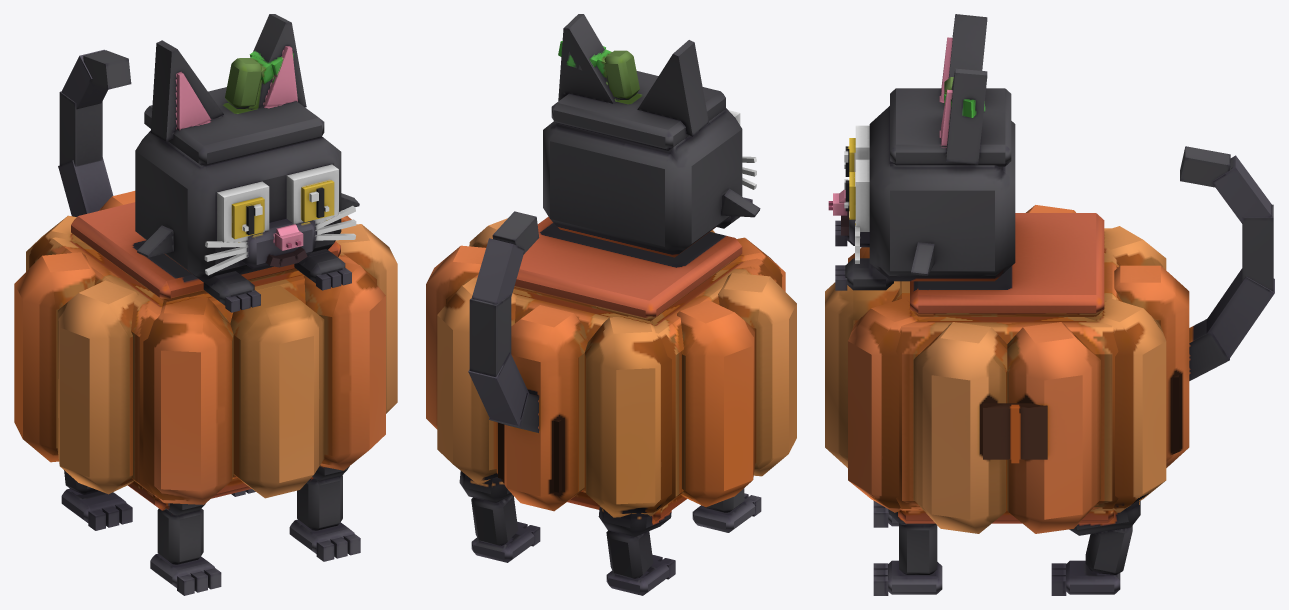
File: ChatCitrouille_Rig.fbx
The picture shows the model from 3 angles, left to right: view 1: azimuth 30°, elevation 25°; view 2: azimuth 150°, elevation 25°; view 3: azimuth 270°, elevation 25°; orthographic projection. The views are drawn at different scales.
Visible parts, largest first — view 1: Body, Head, Tail, LegFR, LegFL, LegBR; view 2: Body, Head, Tail, LegBR, LegBL, LegFR; view 3: Body, Head, Tail, LegBL, LegFL.
Boxes of the visible parts, x1,y1,x2,y2 form: Body: (14,191,397,510); Head: (135,14,359,281); Tail: (58,49,131,216); LegFR: (150,503,221,595); LegFL: (289,466,360,561); LegBR: (61,470,132,530); Body: (426,197,796,521); Head: (543,14,760,257); Tail: (468,211,539,432); LegBR: (598,506,675,595); LegBL: (459,471,540,562); LegFR: (692,488,761,532); Body: (825,205,1189,533); Head: (828,14,1015,281); Tail: (1180,146,1274,380); LegBL: (1051,501,1140,595); LegFL: (873,509,942,595).
Bounding box in the file's own units: 4.17 × 6 × 4.79.
Materials: 1 (1 with a texture image).
